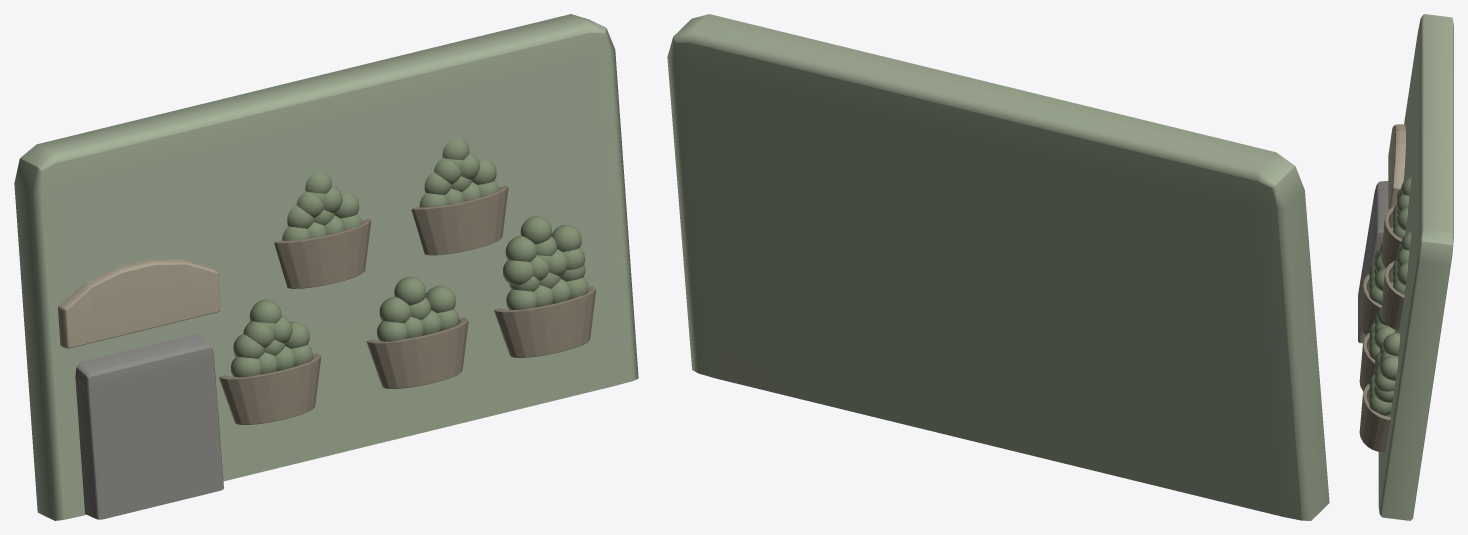
3 renders of one model, left to right at view 1: azimuth 30°, elevation 25°; view 2: azimuth 150°, elevation 25°; view 3: azimuth 270°, elevation 25°, orthographic. The views are drawn at different scales.
Visible parts, largest first — view 1: polySurface135; view 2: polySurface135; view 3: polySurface135.
Boxes of the visible parts, <box> form: polySurface135: <box>14,14,638,520</box>; polySurface135: <box>667,14,1329,520</box>; polySurface135: <box>1358,14,1453,520</box>.
Size of the model in its own units: 88.79 by 50.61 by 15.44.
